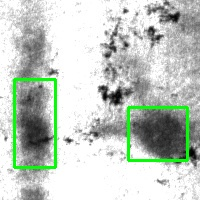patches: (14, 79, 55, 167), (128, 107, 187, 160)
